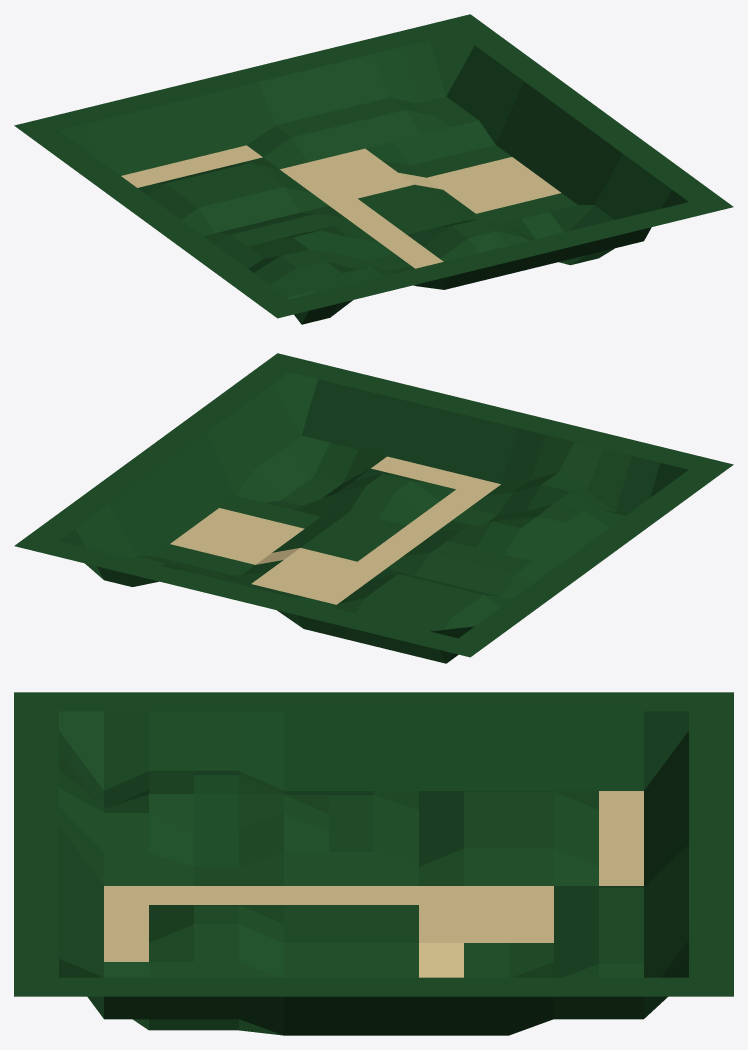
Rendered from Test Level 1.fbx.
3 renders of one model, top to bottom at view 1: azimuth 30°, elevation 25°; view 2: azimuth 150°, elevation 25°; view 3: azimuth 270°, elevation 25°, orthographic. The views are drawn at different scales.
Visible parts, largest first — view 1: Test Level 1; view 2: Test Level 1; view 3: Test Level 1.
Part boxes in pixels (x1,y1,x2,y2): Test Level 1: [14, 14, 733, 324]; Test Level 1: [14, 353, 733, 663]; Test Level 1: [14, 692, 733, 1035].
Size of the model in its own units: 192 by 26.77 by 192.
